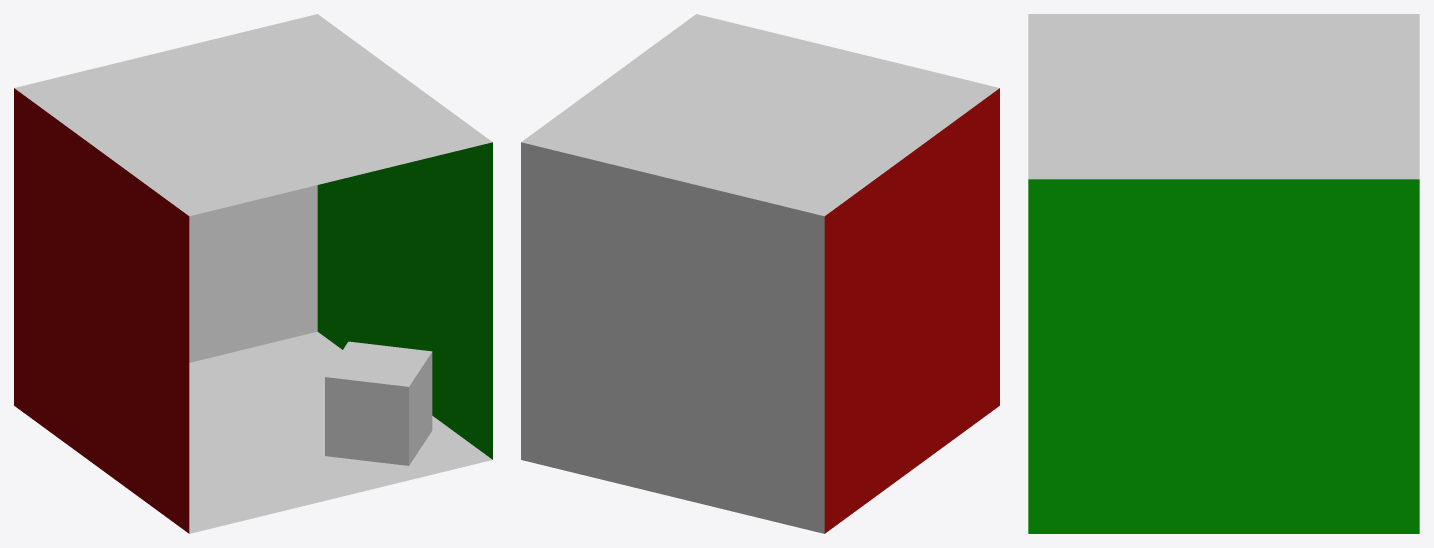
File: cornellbox.glb
3 renders of one model, left to right at view 1: azimuth 30°, elevation 25°; view 2: azimuth 150°, elevation 25°; view 3: azimuth 270°, elevation 25°, orthographic. The views are drawn at different scales.
Parts seen in each view (by area): view 1: Red Wall, Ceiling, Green Wall, Floor, Back Wall, Small Cube; view 2: Back Wall, Red Wall, Ceiling; view 3: Green Wall, Ceiling.
Part boxes in pixels (<box>): Red Wall: <box>14,88,189,533</box>; Ceiling: <box>14,14,492,216</box>; Green Wall: <box>317,142,492,459</box>; Floor: <box>189,331,492,533</box>; Back Wall: <box>189,185,317,362</box>; Small Cube: <box>325,341,432,465</box>; Back Wall: <box>521,142,824,533</box>; Red Wall: <box>824,88,999,533</box>; Ceiling: <box>521,14,999,216</box>; Green Wall: <box>1028,179,1419,533</box>; Ceiling: <box>1028,14,1419,179</box>.
Bounding box in the file's own units: 10 × 10 × 10.
